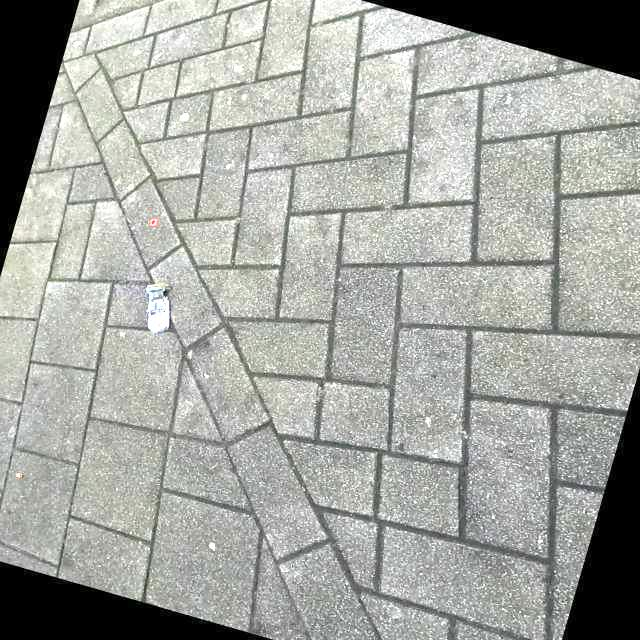Paper: (144, 282, 174, 334)
